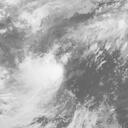cyclone: (18, 53, 64, 95)
